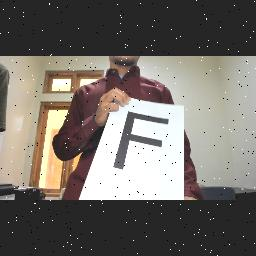f: (109, 108, 171, 174)
